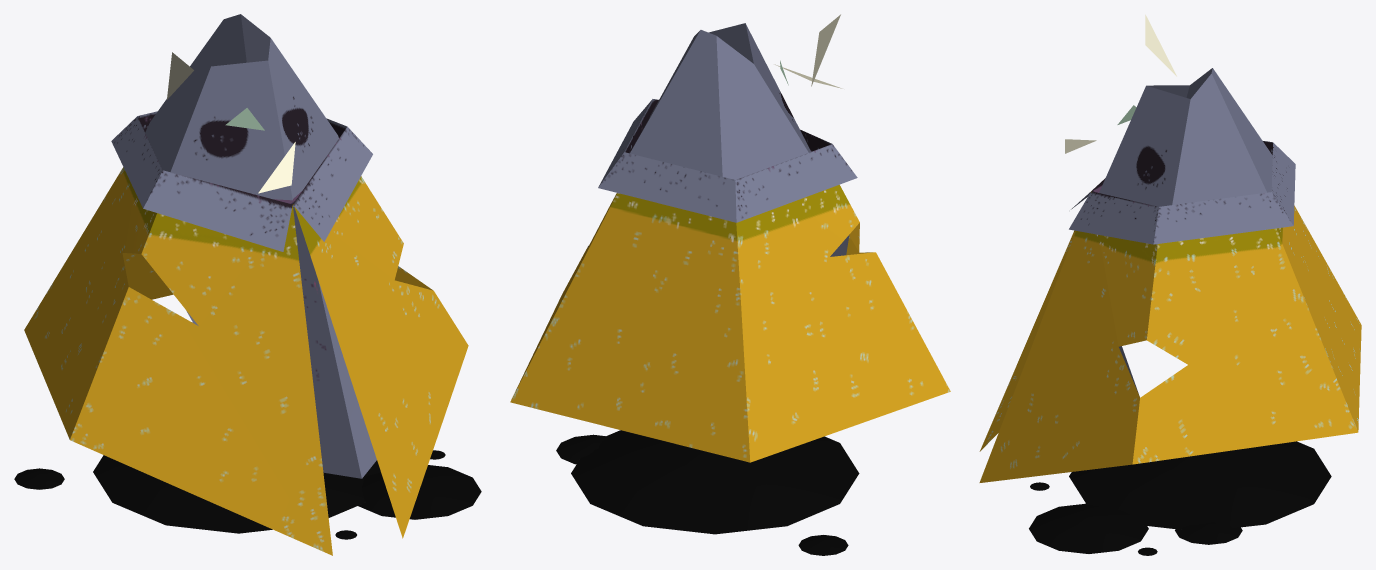
The model's file is ARCardGame_Paper_Textured.fbx.
3 views of the same model, side by side, from view 1: azimuth 30°, elevation 25°; view 2: azimuth 150°, elevation 25°; view 3: azimuth 270°, elevation 25° (orthographic). The views are drawn at different scales.
Visible parts, largest first — view 1: Paper_geo_combined; view 2: Paper_geo_combined; view 3: Paper_geo_combined.
Part boxes in pixels (x1,y1,x2,y2): Paper_geo_combined: [14, 14, 481, 555]; Paper_geo_combined: [510, 14, 950, 555]; Paper_geo_combined: [979, 14, 1361, 555].
Size of the model in its own units: 5.81 by 6.57 by 5.39.
2 materials, 2 textured.
